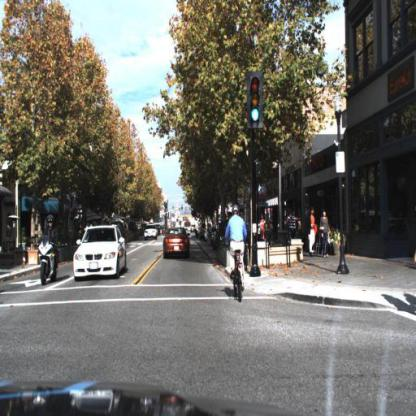biker: (226, 202, 250, 307), (40, 214, 61, 285)
car: (72, 220, 127, 283), (163, 225, 192, 261), (143, 224, 158, 241)
pedestrian: (306, 206, 318, 261), (320, 209, 331, 260), (290, 212, 299, 242), (259, 215, 266, 242)
trafficLight: (247, 73, 264, 125)
